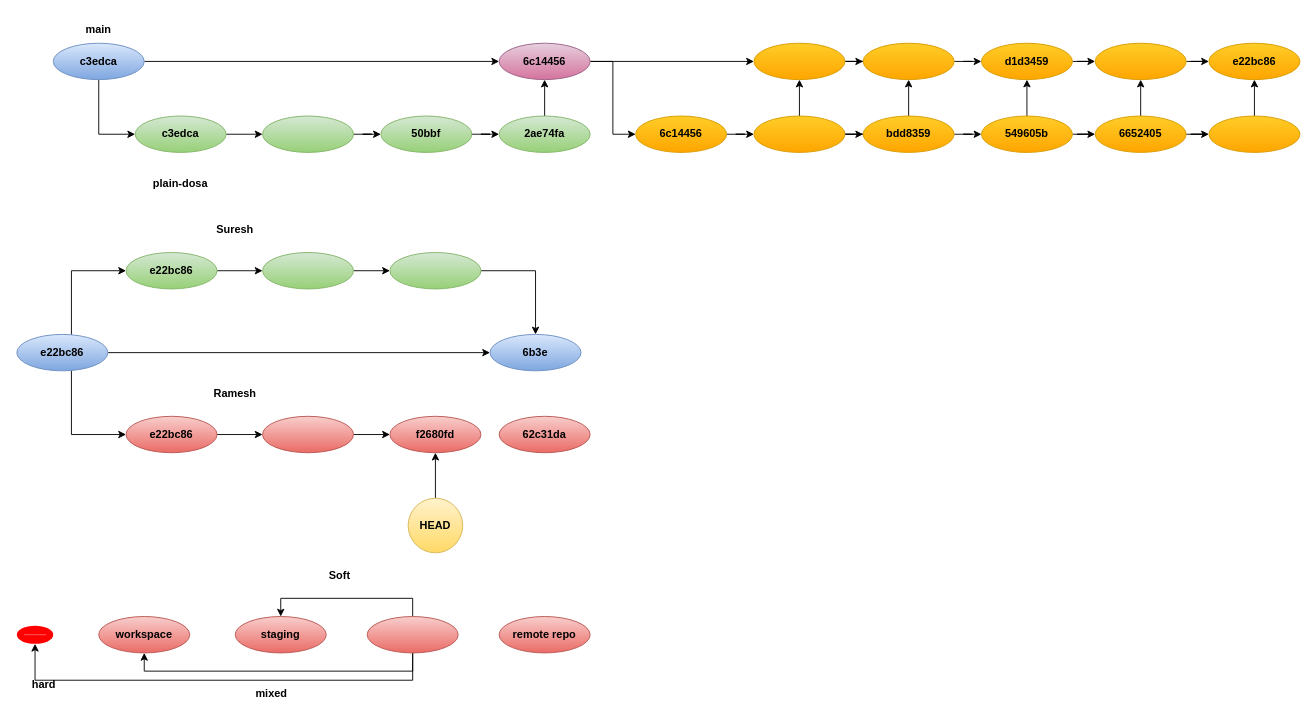
This 1316x723 diagram has some shape labels left out. Each missing label, with the centre of its shape:
0a952fe: point 908,61
102af31: point 1254,133
3674a60: point 308,133
700112c: point 1140,61
9c23efc: point 308,270
9e57f97: point 435,270
d67c1a6: point 799,133
f374f6d: point 308,434
f59fc40: point 799,61
local repo: point 412,634
